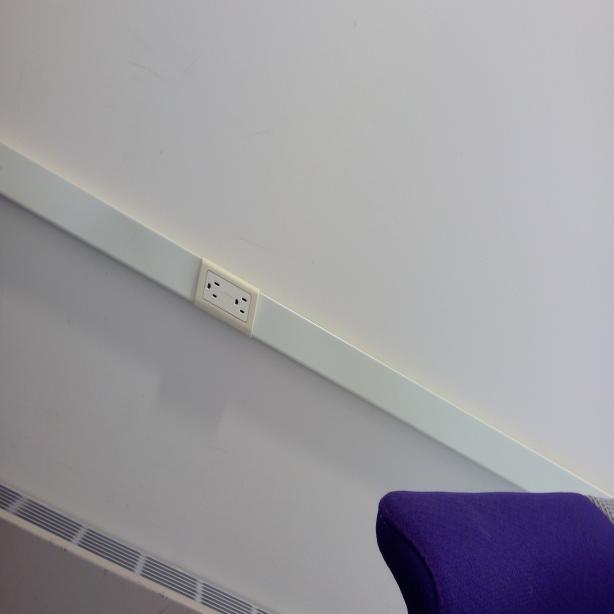typeb: (204, 273, 224, 306), (230, 288, 249, 322)
